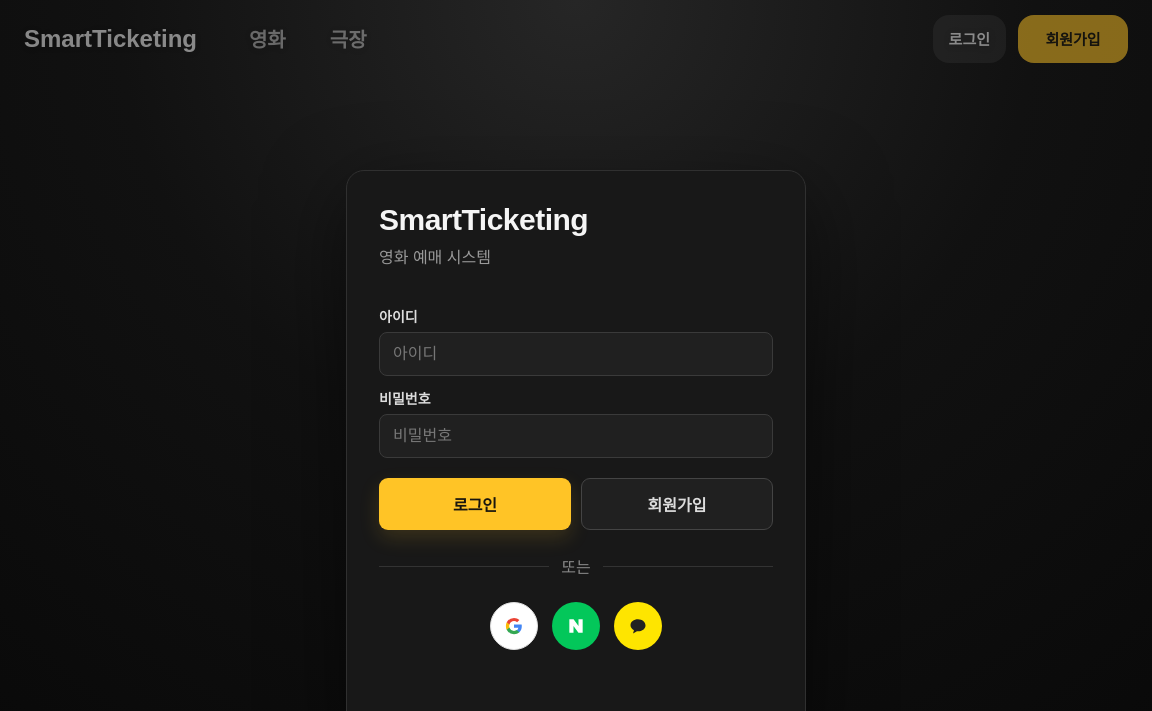
normal login retrieves the member and opens the existing profile
The image size is (1152, 711).
In the field labelled "아이디": [576, 354] box [379,332,773,376], type "tester"
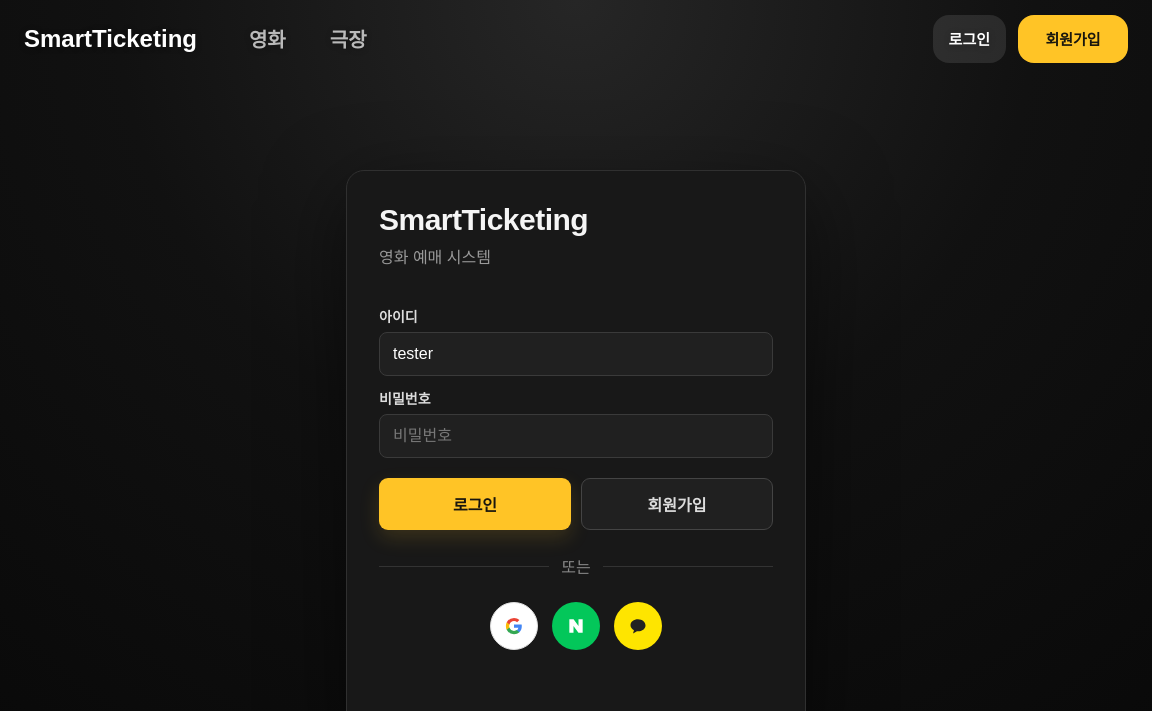
In the password field labelled "비밀번호": [576, 436] box [379,414,773,458], type "password123"
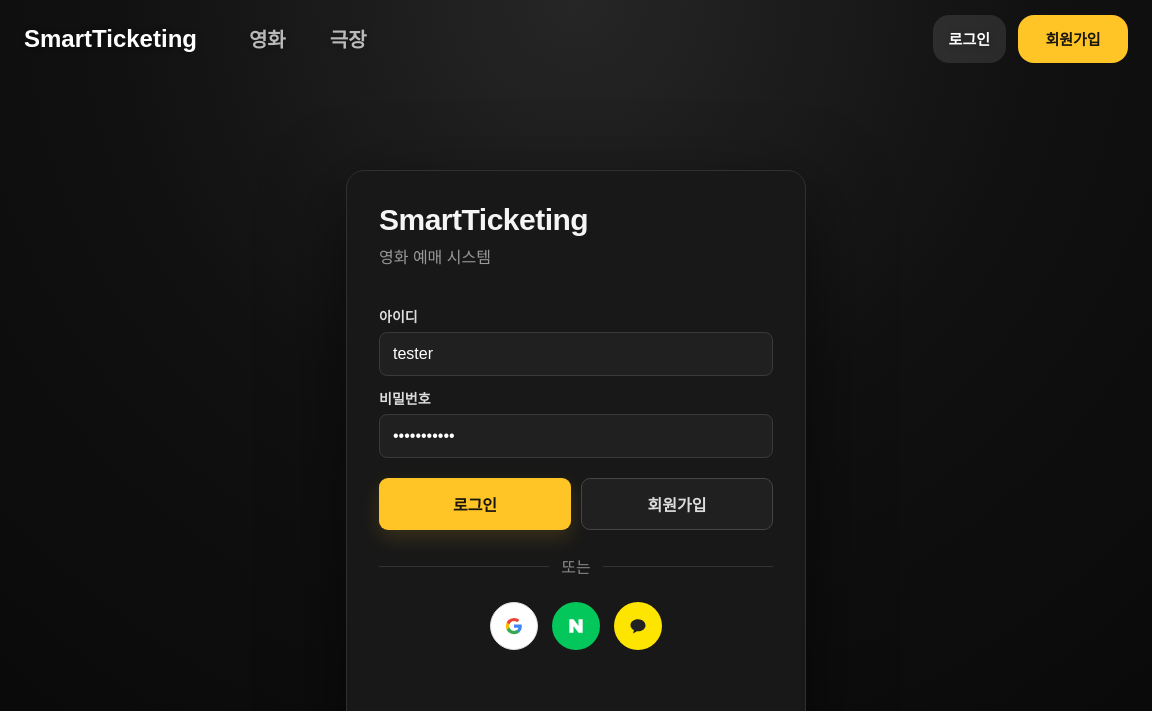
Click the button "로그인": [475, 504] box [379,478,571,530]
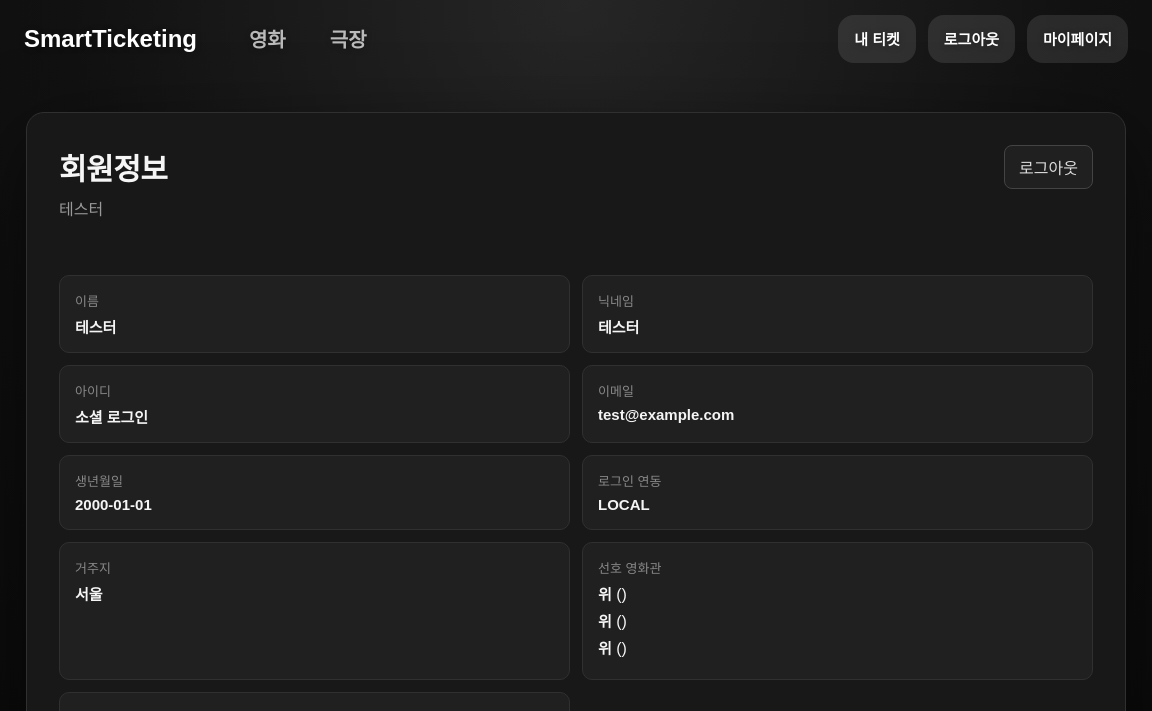
Expected: the heading "회원정보" is shown, [59,145,167,189]
